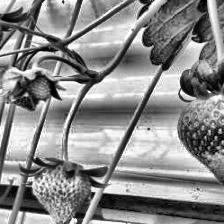Powdery Mildew Fruit: (32, 163, 91, 224), (201, 138, 224, 192)
